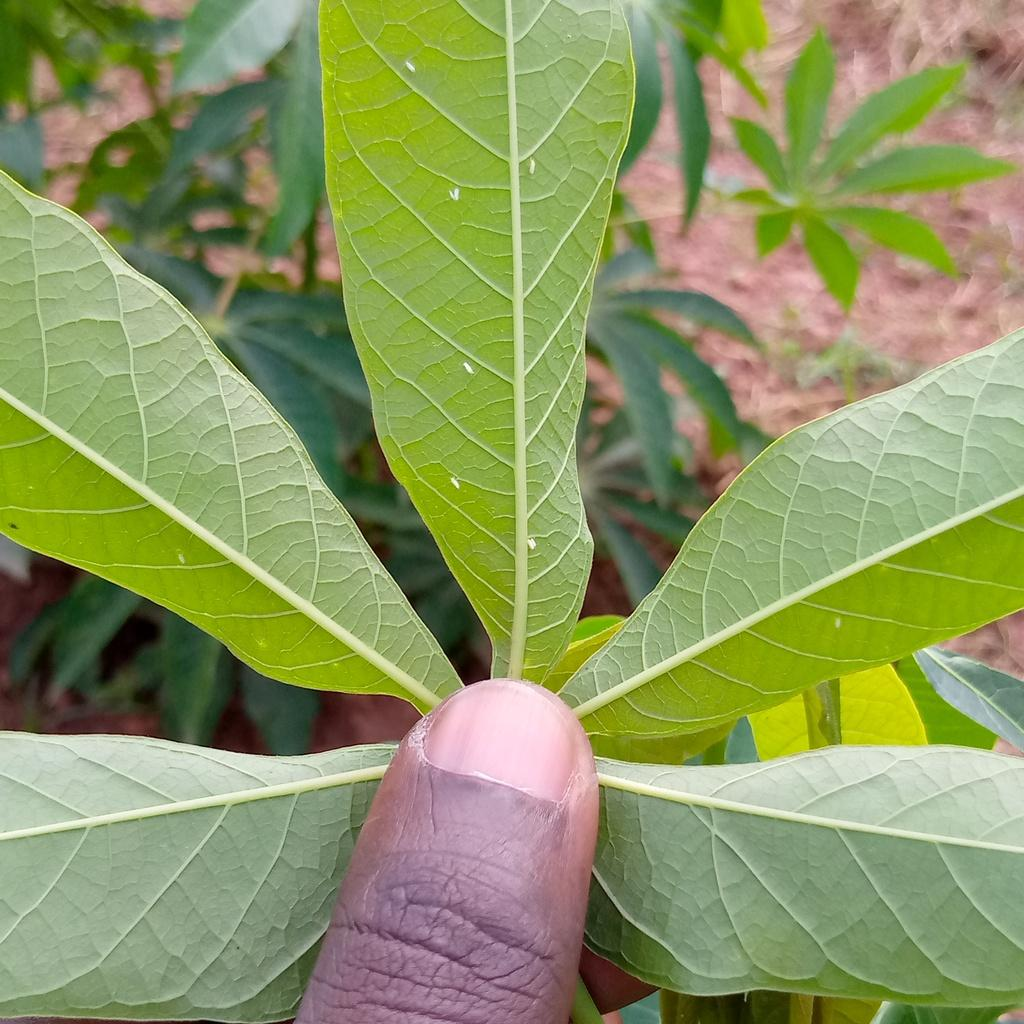adult: (462, 362, 474, 374), (526, 537, 537, 550), (404, 60, 415, 72), (449, 188, 459, 201), (450, 476, 460, 489), (529, 159, 535, 175)
